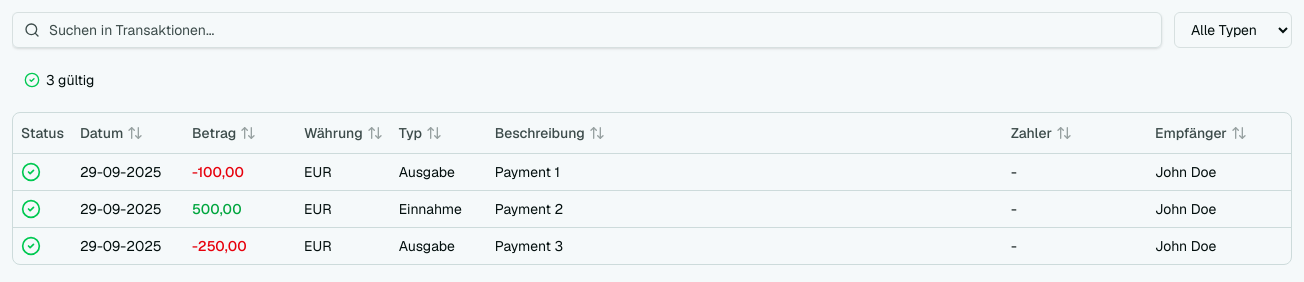
DataTable › should filter by transaction type
Select "Einnahmen" in the dropdown: (1233, 30) [1174, 12, 1292, 48]
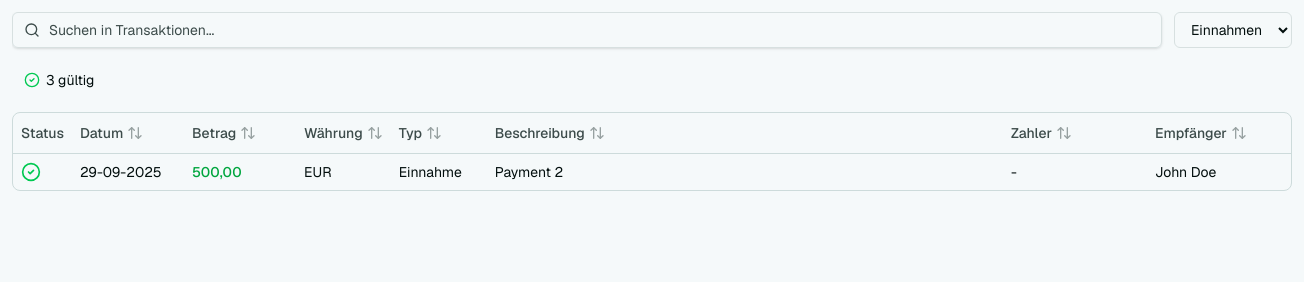
Expected: the text "Payment 1" is gone
Expected: the text "Payment 3" is gone
